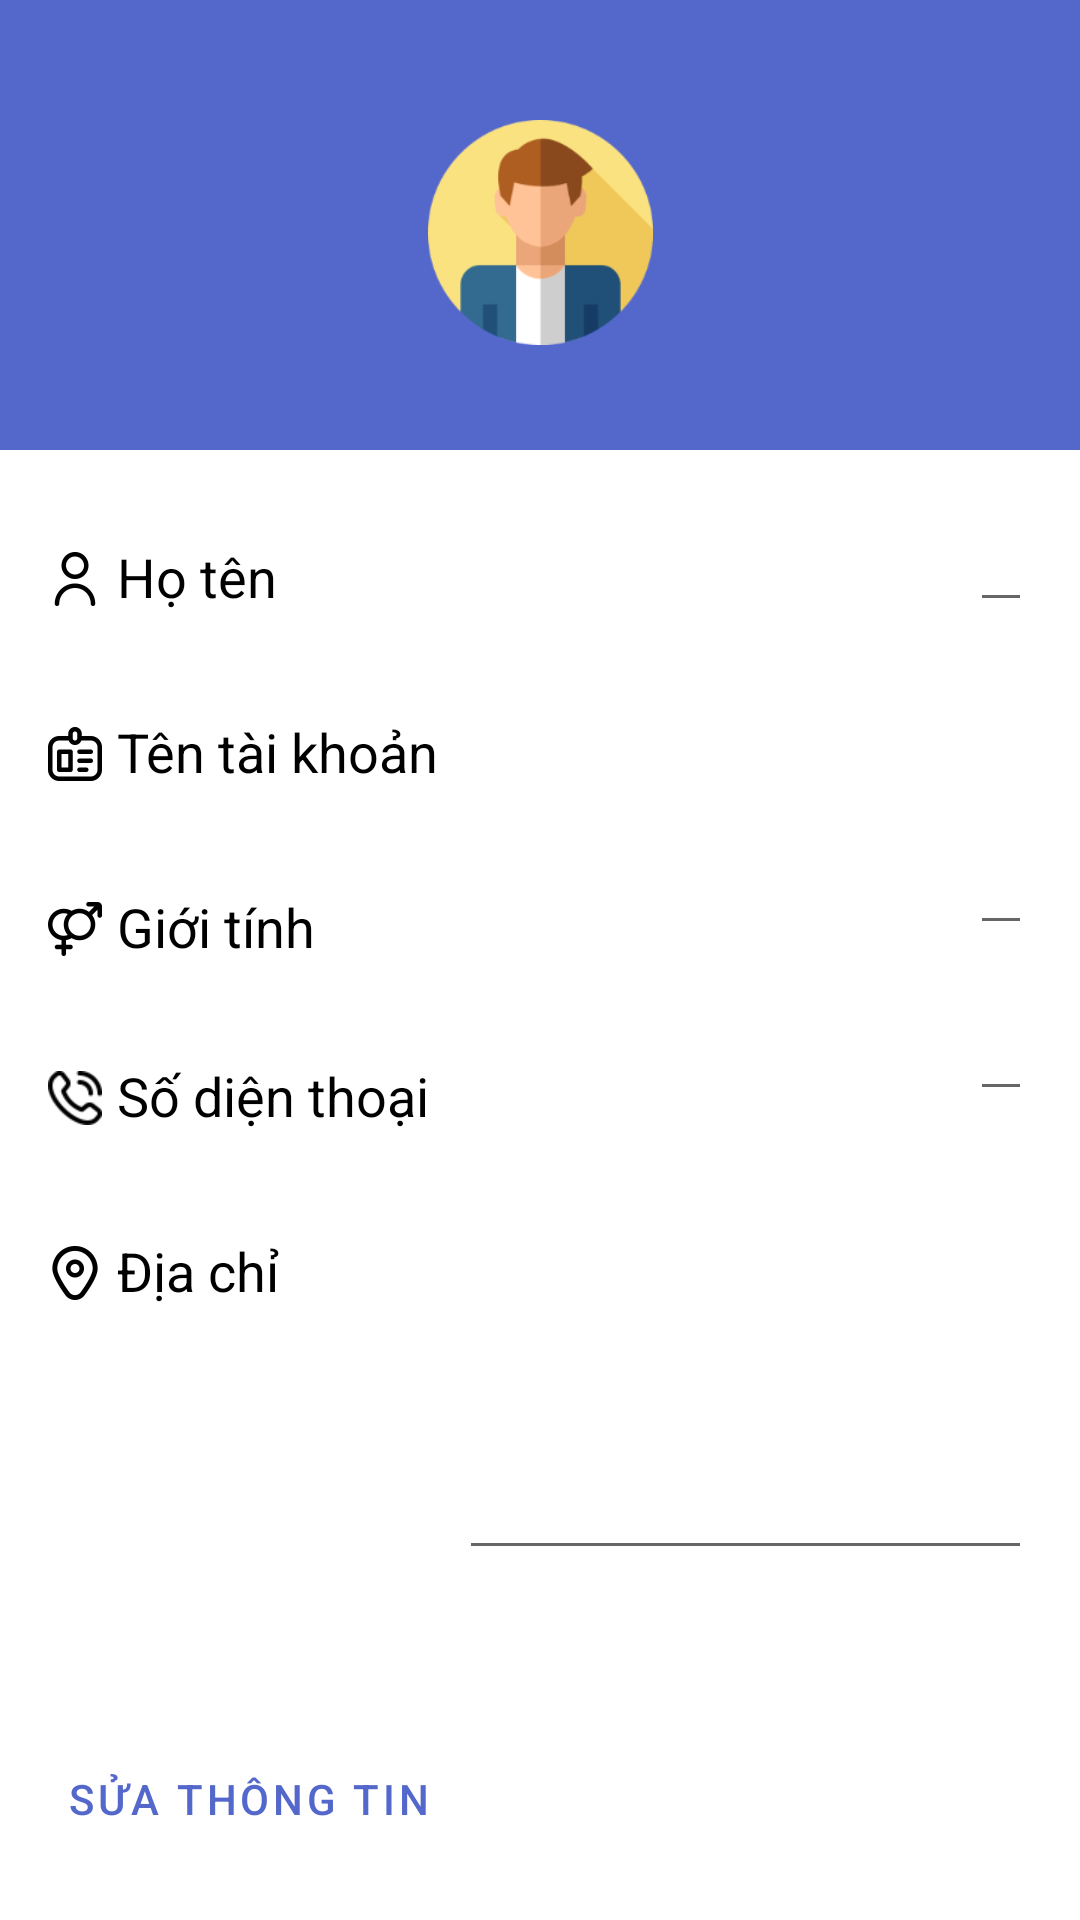

Icons on this 1080 x 1920 Android screen, each with the point to tap as point (x, y):
id badge: point (75, 754)
man avt: point (540, 232)
marker: point (75, 1273)
phon call: point (75, 1098)
user: point (75, 579)
venus mars: point (75, 929)
